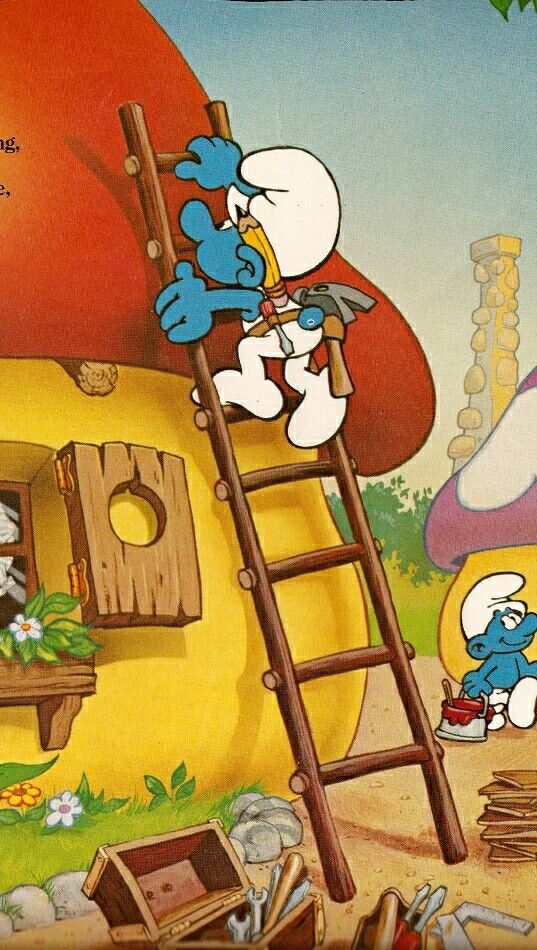smurf: (154, 132, 352, 450), (455, 571, 537, 737)
